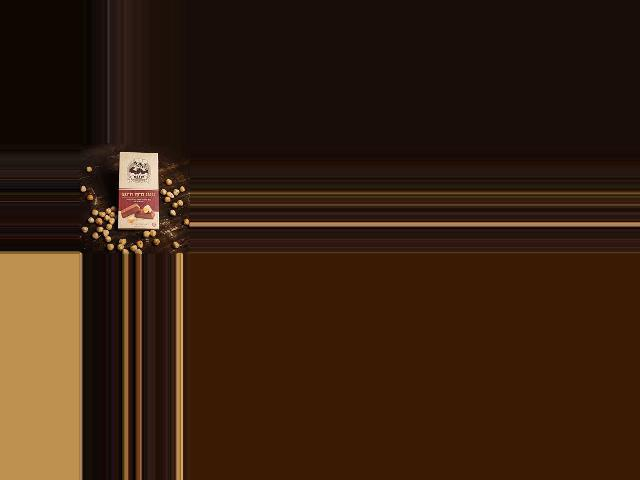chocolate: (114, 150, 161, 231)
